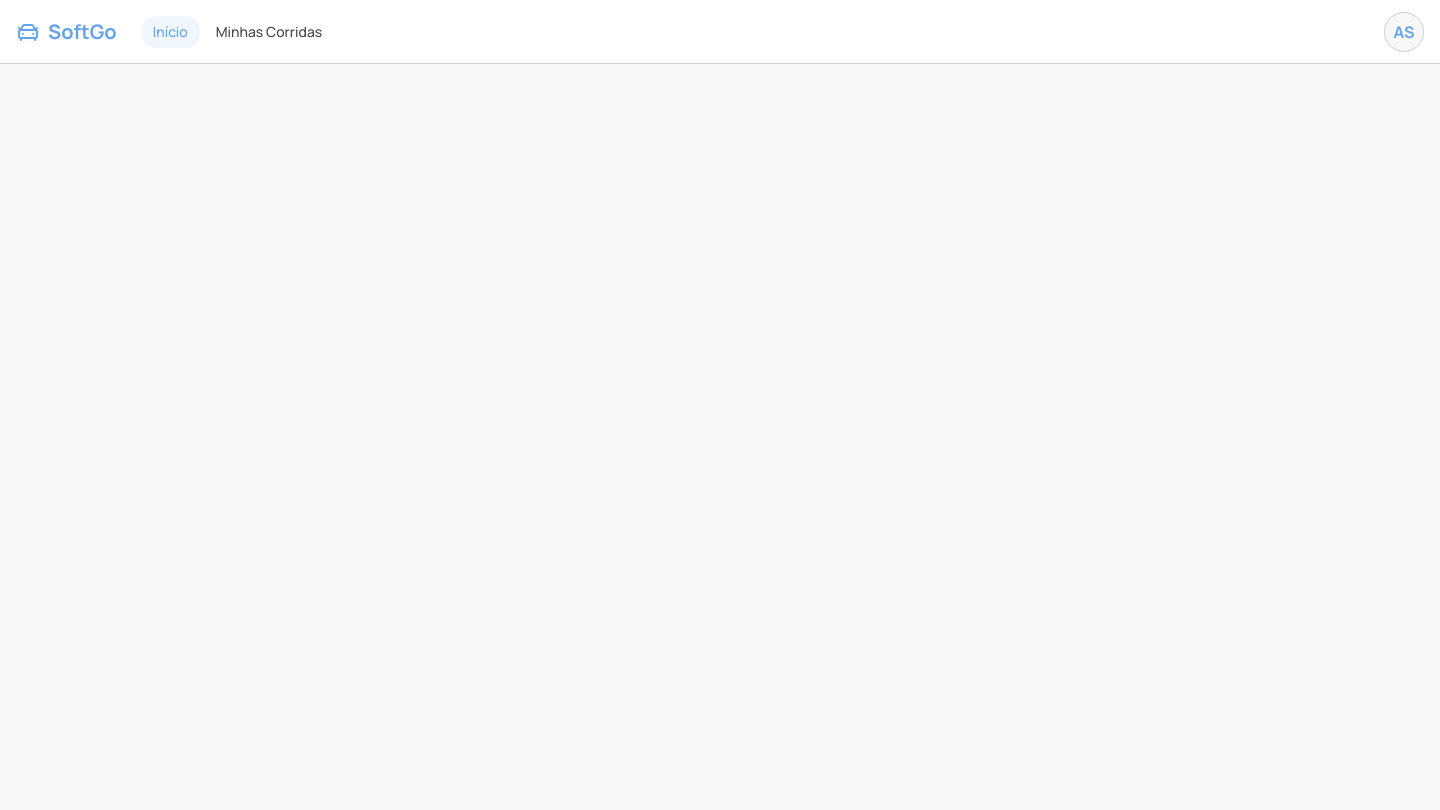
Test: Header › closes the menu when clicking outside of it
Step 1. Click the button with aria-label "menu da conta" → click(1404, 32), box x1=1384 y1=12 x2=1424 y2=52
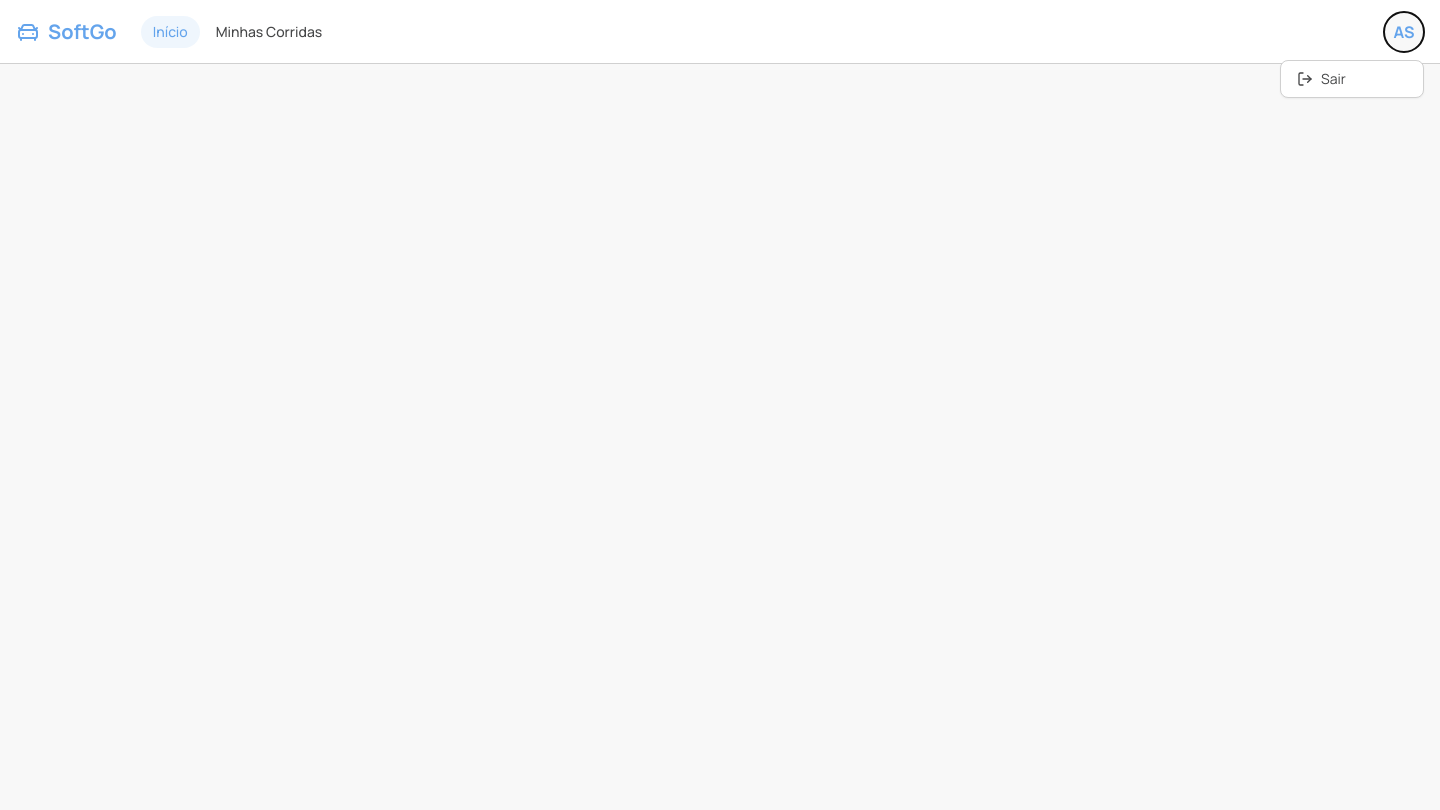
Check: the menu item "Sair" is shown, box x1=1281 y1=60 x2=1423 y2=96
Step 2. Click the element showing "SoftGo Início Minhas Corridas AS Sair" → click(720, 405), box x1=0 y1=0 x2=1439 y2=809
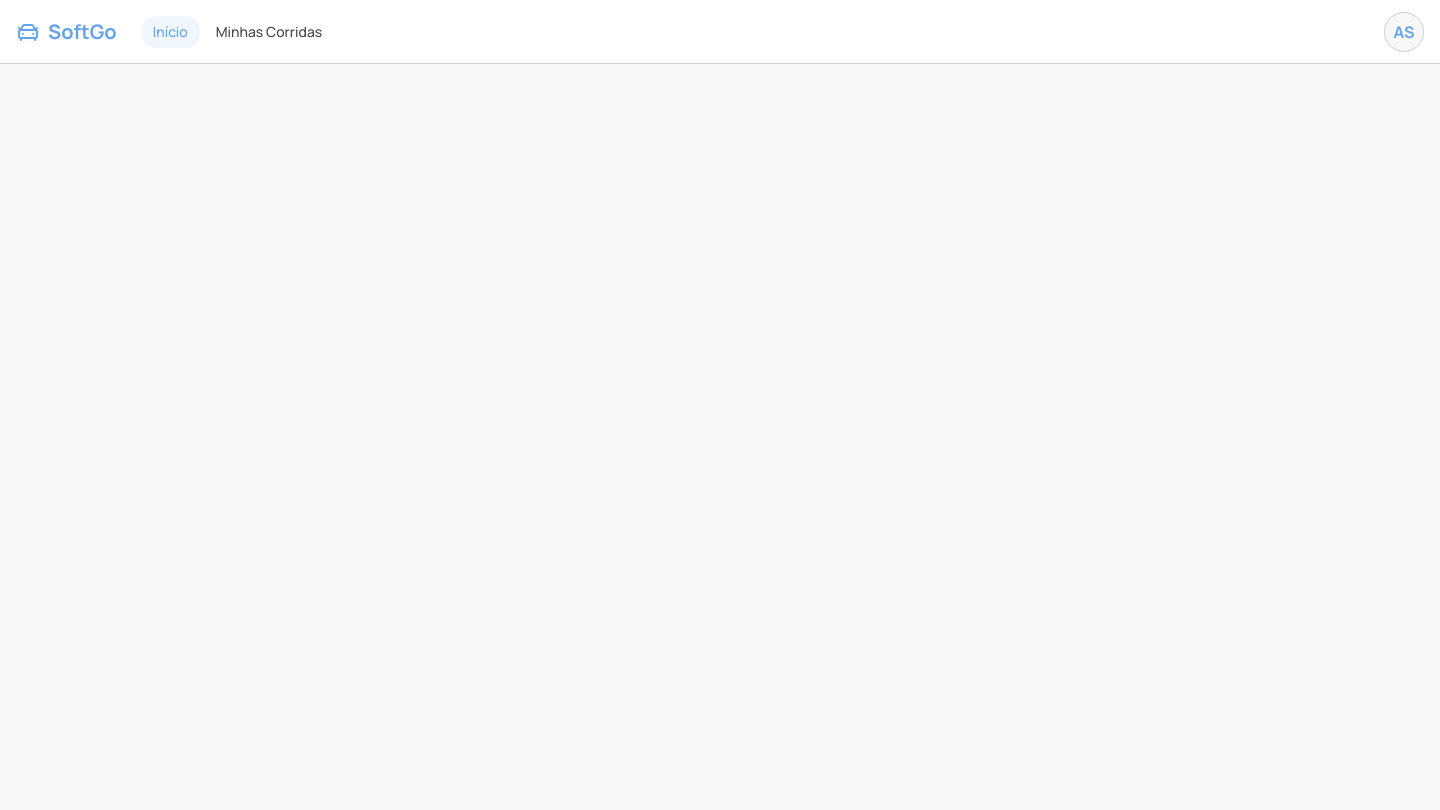
Check: the menu item "Sair" is gone
